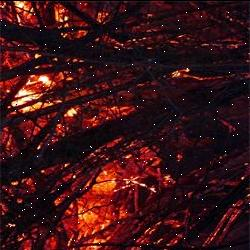fire: (58, 148, 160, 250), (10, 61, 60, 123)
